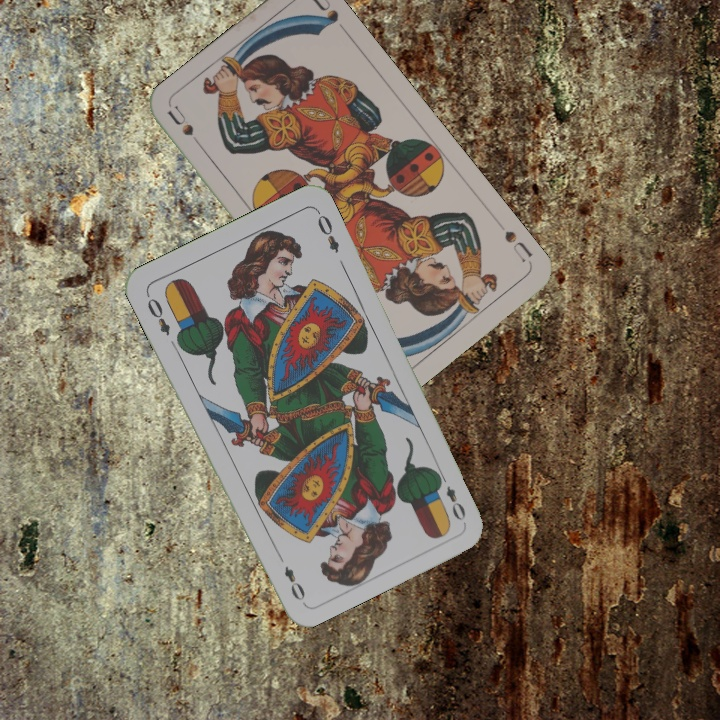EO: (434, 469, 469, 523), (142, 290, 173, 338)
SU: (163, 102, 209, 155), (500, 226, 536, 265)
